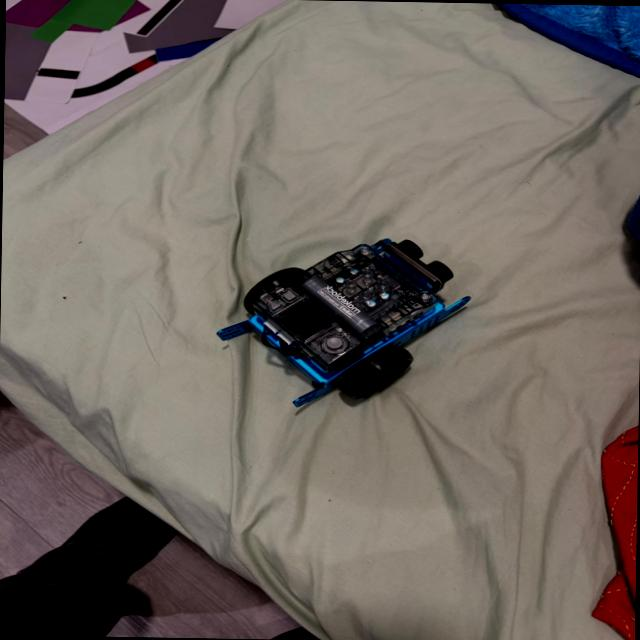mbot-detection: (208, 230, 476, 417)
